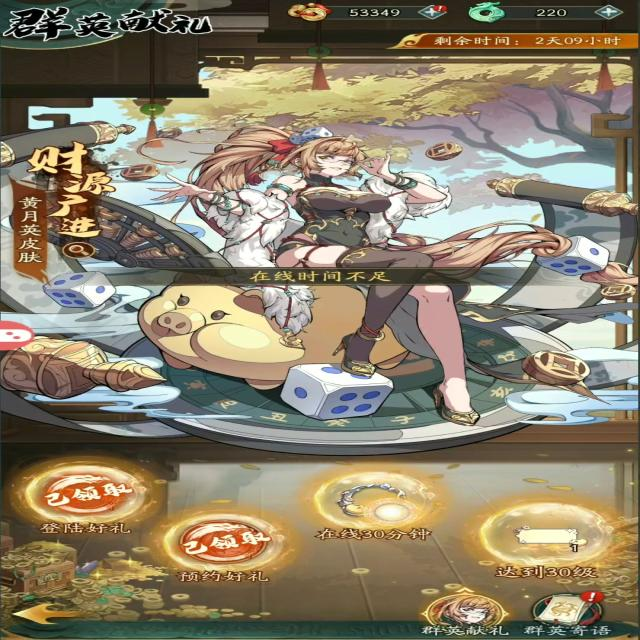hint-reddot: (575, 584, 610, 604), (433, 3, 448, 15)
operation-back: (11, 597, 97, 632)
operation-detail: (54, 239, 118, 270)
operation-qunyinggift1off: (18, 442, 158, 528)
operation-qunyinggift2off: (148, 492, 304, 580)
operation-qunyinggift3on: (296, 454, 442, 540)
operation-qunyinggift4on: (472, 488, 614, 577)
operation-qunyingjiyu: (523, 583, 612, 640)
operation-qunyingxianli: (407, 582, 519, 638)
